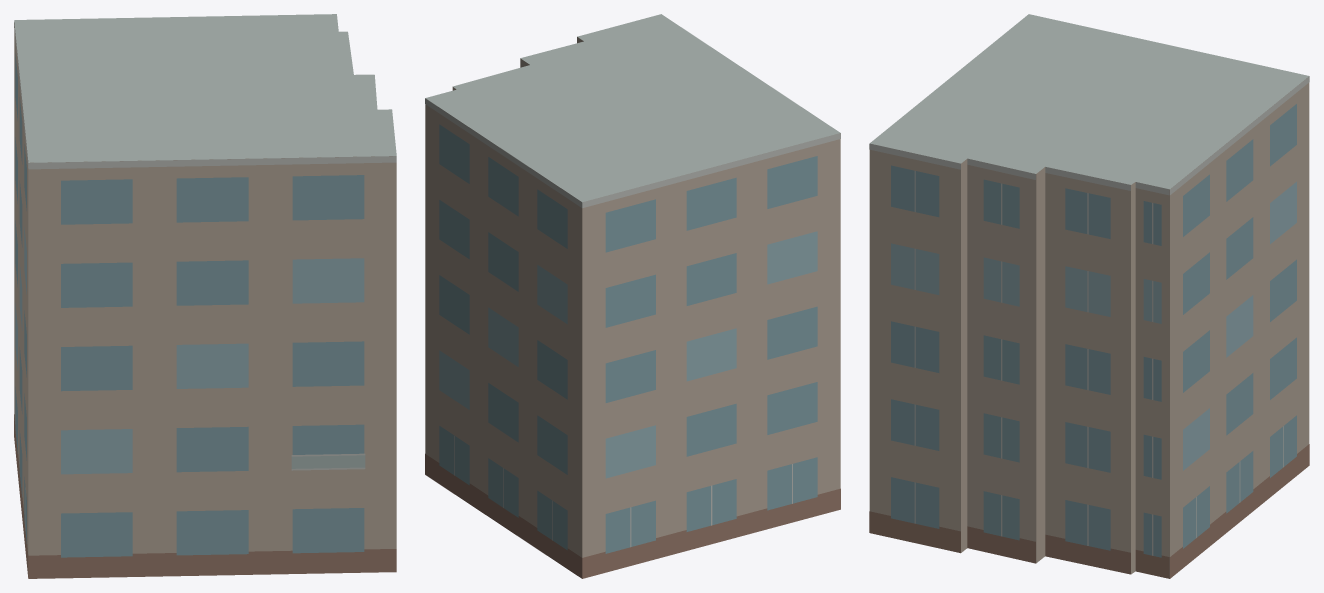
File: survey-upis-33013648.glb
3 views of the same model, side by side, from view 1: azimuth 30°, elevation 25°; view 2: azimuth 150°, elevation 25°; view 3: azimuth 270°, elevation 25° (orthographic). The views are drawn at different scales.
Parts seen in each view (by area): view 1: survey-upis-33013648.tmp; view 2: survey-upis-33013648.tmp; view 3: survey-upis-33013648.tmp.
Boxes of the visible parts, x1,y1,x2,y2 form: survey-upis-33013648.tmp: (14,14,396,578); survey-upis-33013648.tmp: (425,14,840,578); survey-upis-33013648.tmp: (869,14,1309,578).
Size of the model in its own units: 14.92 by 15.45 by 15.83.
